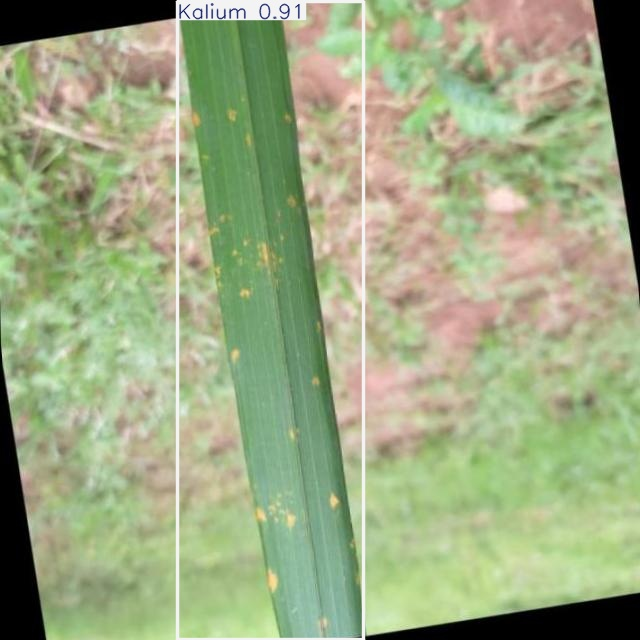Kalium: (177, 2, 364, 640)
